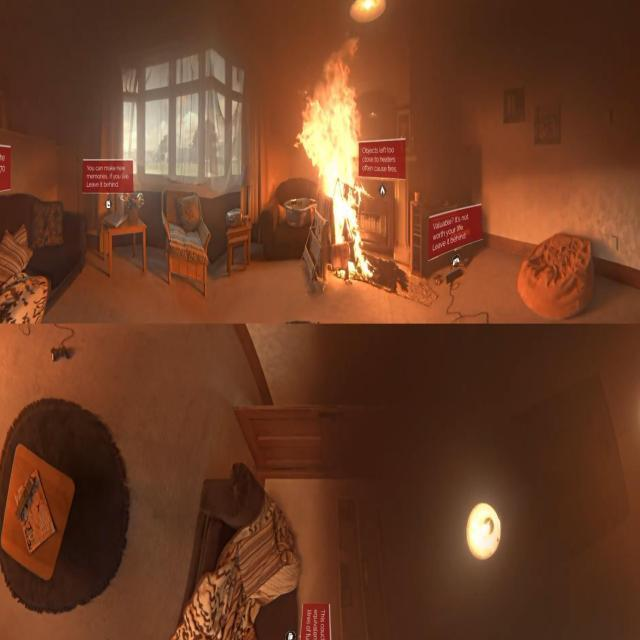smoke: (295, 34, 378, 280)
